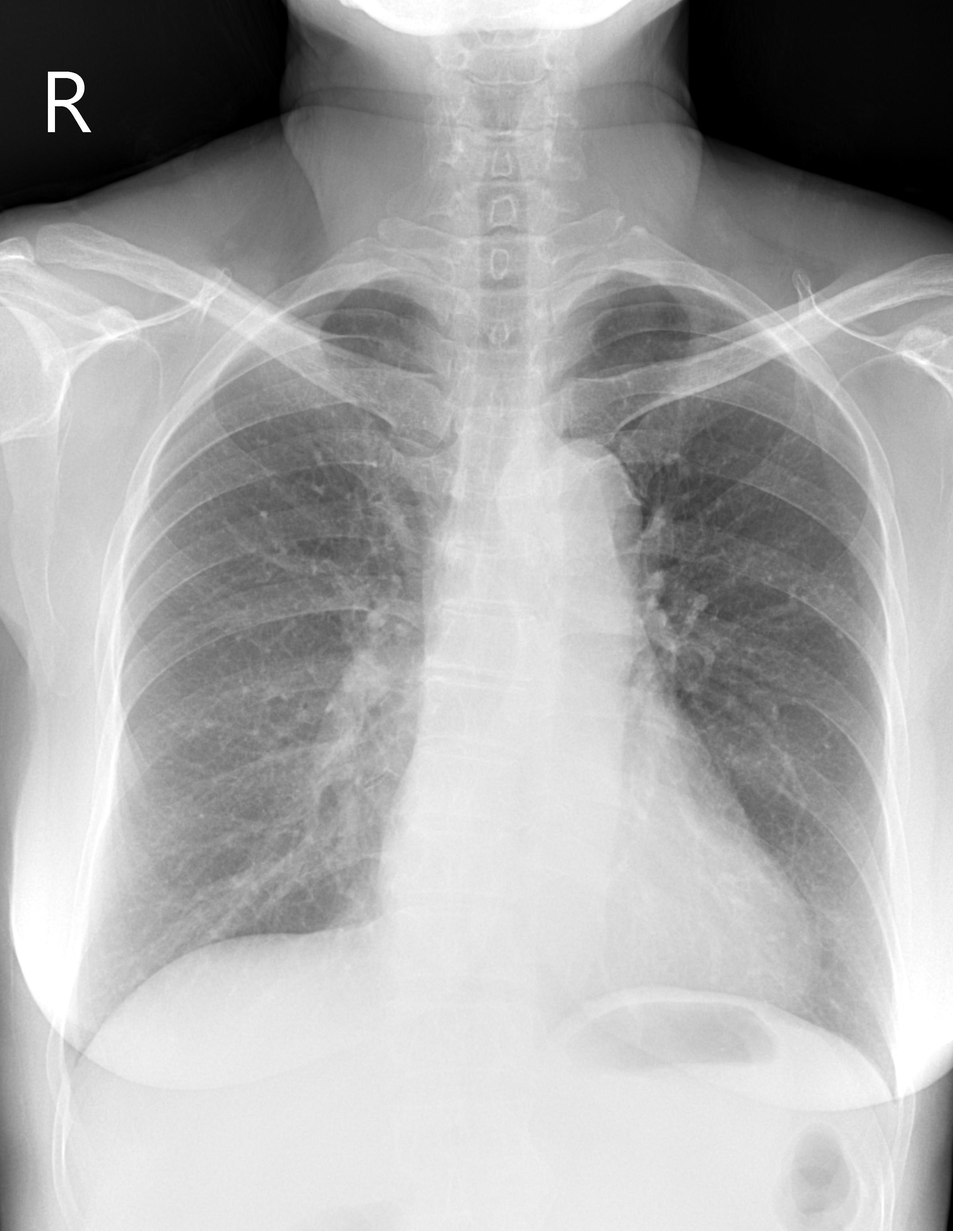Aortic enlargement: (500, 433, 642, 598)
Cardiomegaly: (375, 840, 811, 1017)
